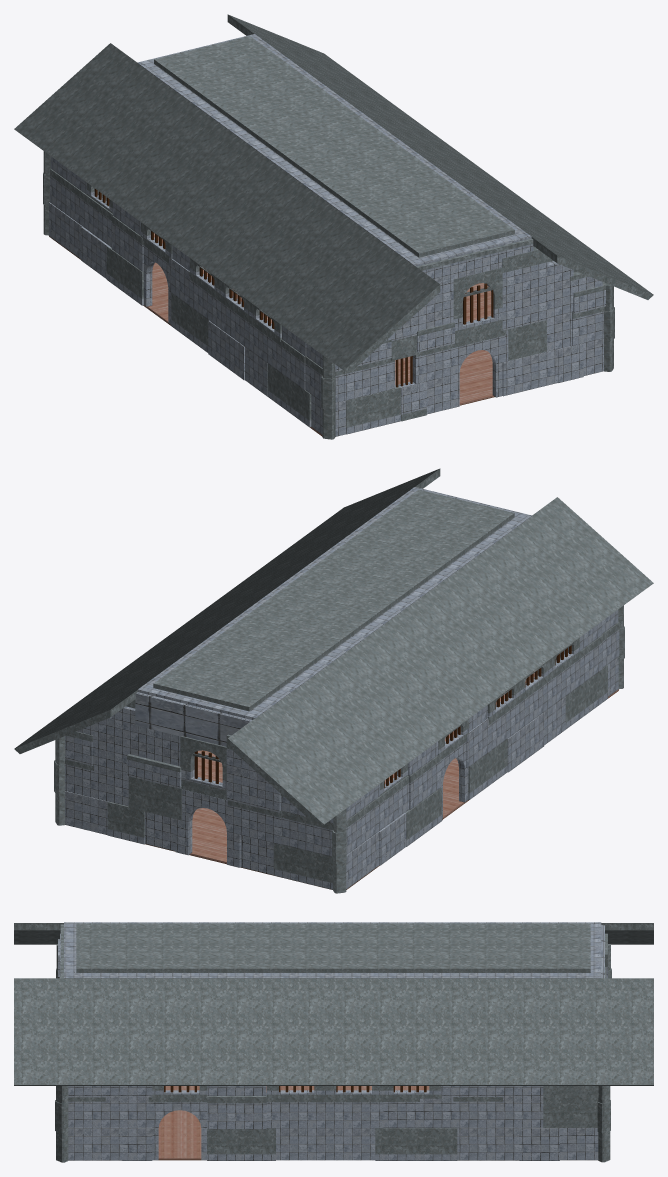
Rendered from Cafeteria_1.obj.
3 views of the same model, one above another, from view 1: azimuth 30°, elevation 25°; view 2: azimuth 150°, elevation 25°; view 3: azimuth 270°, elevation 25° (orthographic). The views are drawn at different scales.
Parts seen in each view (by area): view 1: block, roof_halfLarge, block_gate%, chimney_middle, gate; view 2: block, roof_halfLarge, block_gate%, chimney_middle, gate; view 3: roof_halfLarge, block, chimney_middle, block_gate%, gate.
Part boxes in pixels (x1,y1,x2,y2): block: [49, 34, 605, 436]; roof_halfLarge: [14, 14, 653, 372]; block_gate%: [86, 183, 508, 409]; chimney_middle: [43, 151, 614, 439]; gate: [94, 188, 493, 387]; block: [65, 487, 619, 889]; roof_halfLarge: [14, 468, 653, 826]; block_gate%: [175, 637, 579, 867]; chimney_middle: [54, 605, 624, 893]; gate: [192, 644, 571, 788]; roof_halfLarge: [14, 923, 653, 1085]; block: [58, 922, 607, 1160]; chimney_middle: [55, 944, 611, 1162]; block_gate%: [60, 962, 606, 1160]; gate: [164, 1086, 426, 1092].
Size of the model in its own units: 9.69 by 4.69 by 17.84.
